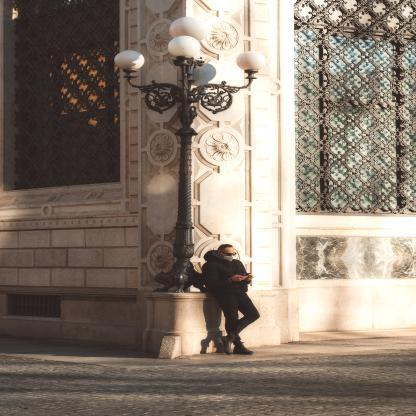light_pole: (112, 20, 268, 293)
